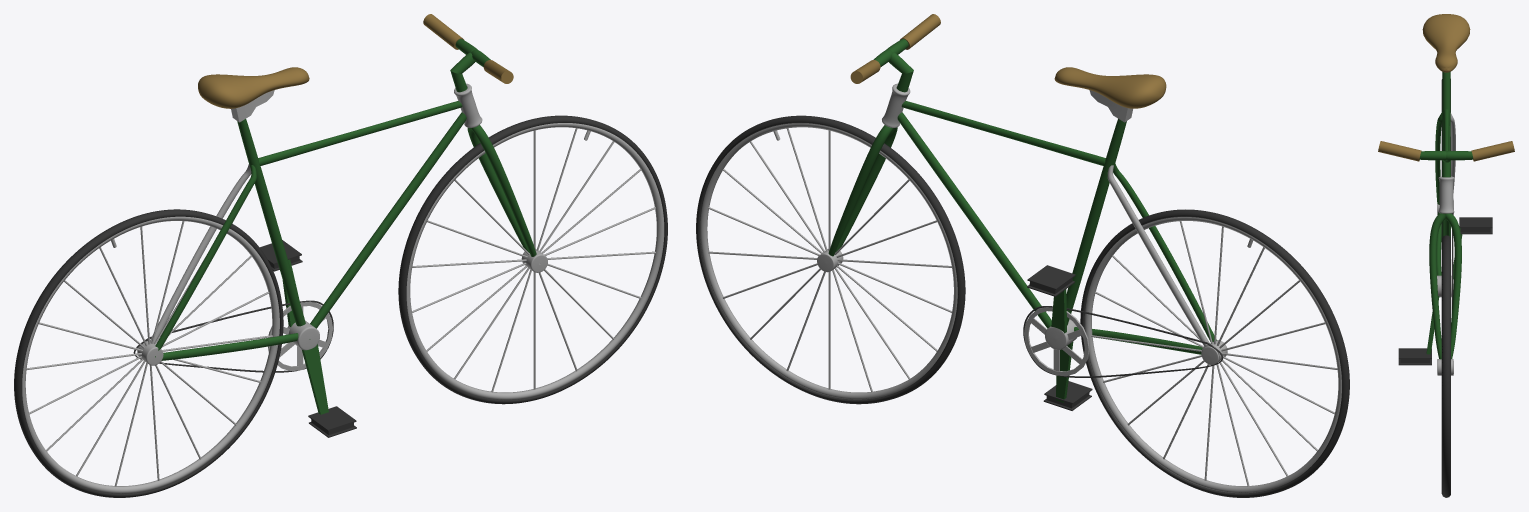
The model's file is bike1.fbx.
The picture shows the model from 3 angles, left to right: view 1: azimuth 30°, elevation 25°; view 2: azimuth 150°, elevation 25°; view 3: azimuth 270°, elevation 25°; orthographic projection. The views are drawn at different scales.
Visible parts, largest first — view 1: nurbsToPoly78; view 2: nurbsToPoly78; view 3: nurbsToPoly78.
Boxes of the visible parts, box(x1,y1,x2,y2) form: nurbsToPoly78: box(14, 14, 667, 497); nurbsToPoly78: box(696, 14, 1349, 497); nurbsToPoly78: box(1378, 14, 1514, 497).
Bounding box in the file's own units: 3.16 × 1.85 × 0.6755.
